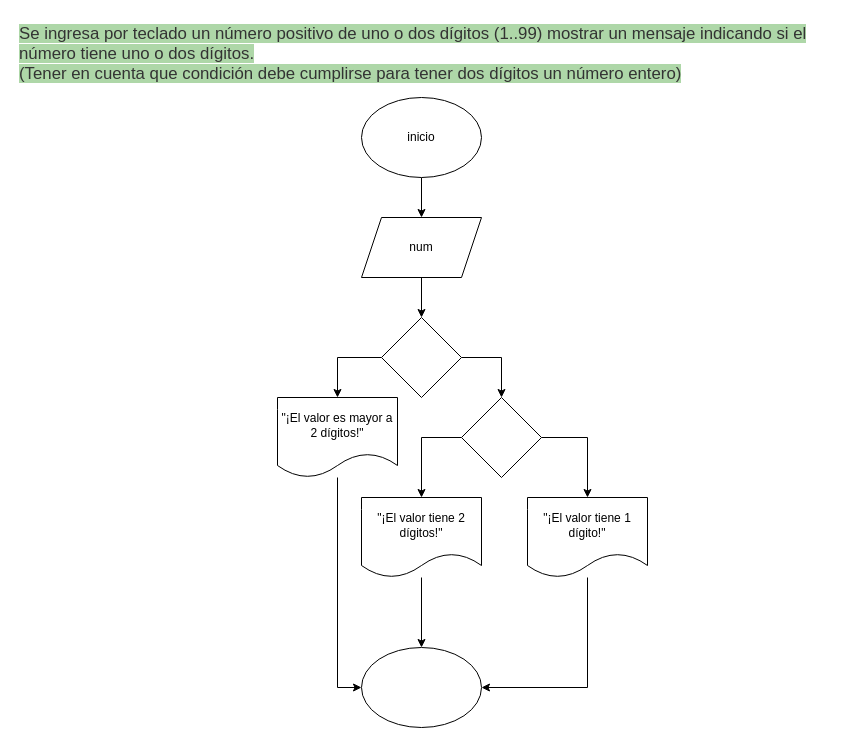
Image size: 844x745. Some labels were removed from this diagram. Here are the shapes that lost their labels. From the top down, the centre of each, then its label:
At point (421, 357): "num<100".
At point (501, 437): "num<10".
At point (421, 687): "fin".
